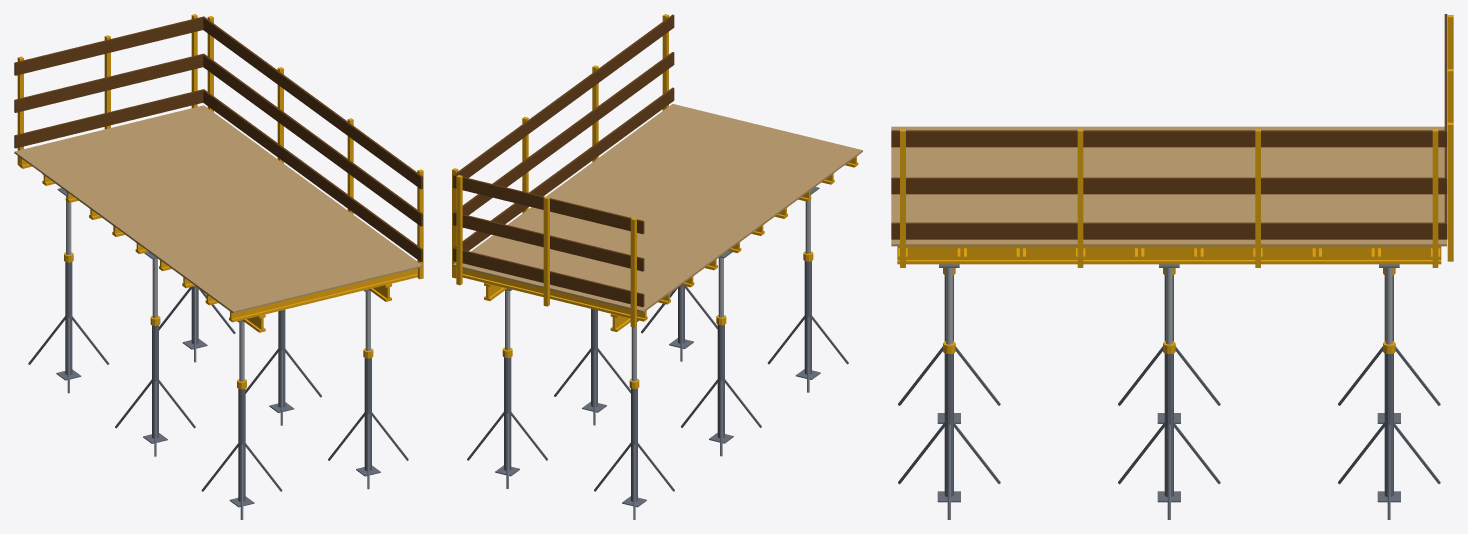
The model's file is plant.temporary.table_form.glb.
3 renders of one model, left to right at view 1: azimuth 30°, elevation 25°; view 2: azimuth 150°, elevation 25°; view 3: azimuth 270°, elevation 25°, orthographic. The views are drawn at different scales.
Visible parts, largest first — view 1: main__plywood, edge__ply_brown, props__steel_painted, main__plant_yellow, edge__plant_yellow, props__steel_galvanised; view 2: main__plywood, edge__ply_brown, props__steel_painted, edge__plant_yellow, main__plant_yellow, props__steel_galvanised; view 3: main__plywood, edge__ply_brown, main__plant_yellow, props__steel_painted, edge__plant_yellow, props__steel_galvanised.
Boxes of the visible parts, x1=… form: main__plywood: x1=14, y1=105, x2=422, y2=313; edge__ply_brown: x1=14, y1=16, x2=422, y2=261; props__steel_painted: x1=28, y1=188, x2=408, y2=519; main__plant_yellow: x1=19, y1=157, x2=417, y2=332; edge__plant_yellow: x1=17, y1=14, x2=423, y2=279; props__steel_galvanised: x1=66, y1=195, x2=370, y2=381; main__plywood: x1=453, y1=104, x2=862, y2=312; edge__ply_brown: x1=453, y1=14, x2=674, y2=307; props__steel_painted: x1=467, y1=186, x2=848, y2=519; edge__plant_yellow: x1=452, y1=14, x2=668, y2=327; main__plant_yellow: x1=462, y1=155, x2=858, y2=331; props__steel_galvanised: x1=505, y1=194, x2=810, y2=381; main__plywood: x1=891, y1=126, x2=1446, y2=246; edge__ply_brown: x1=891, y1=14, x2=1447, y2=239; main__plant_yellow: x1=897, y1=246, x2=1441, y2=264; props__steel_painted: x1=898, y1=264, x2=1440, y2=519; edge__plant_yellow: x1=900, y1=15, x2=1453, y2=267; props__steel_galvanised: x1=946, y1=268, x2=1392, y2=344.
Bounding box in the file's own units: 2.51 × 3.7 × 4.86.
